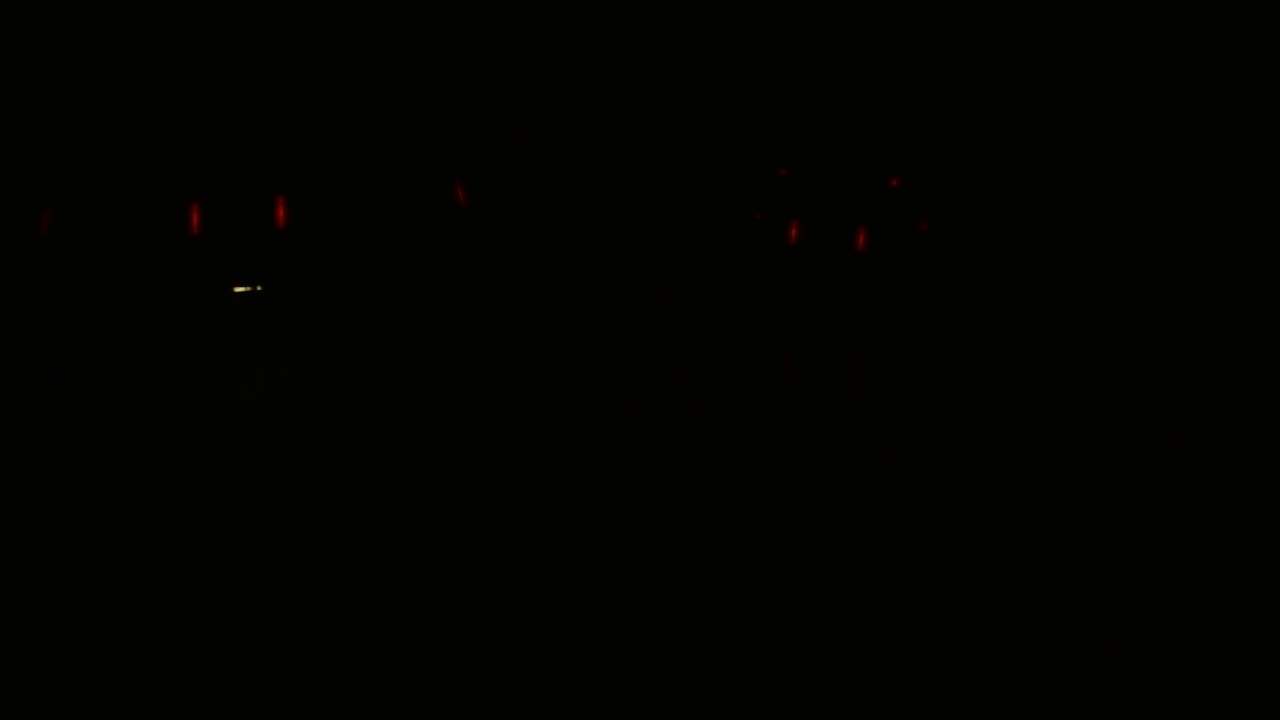pair1: (182, 189, 300, 246)
pair2: (775, 213, 883, 264)
